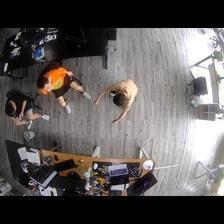normal: (37, 66, 94, 116), (95, 74, 140, 126), (1, 92, 51, 130)
